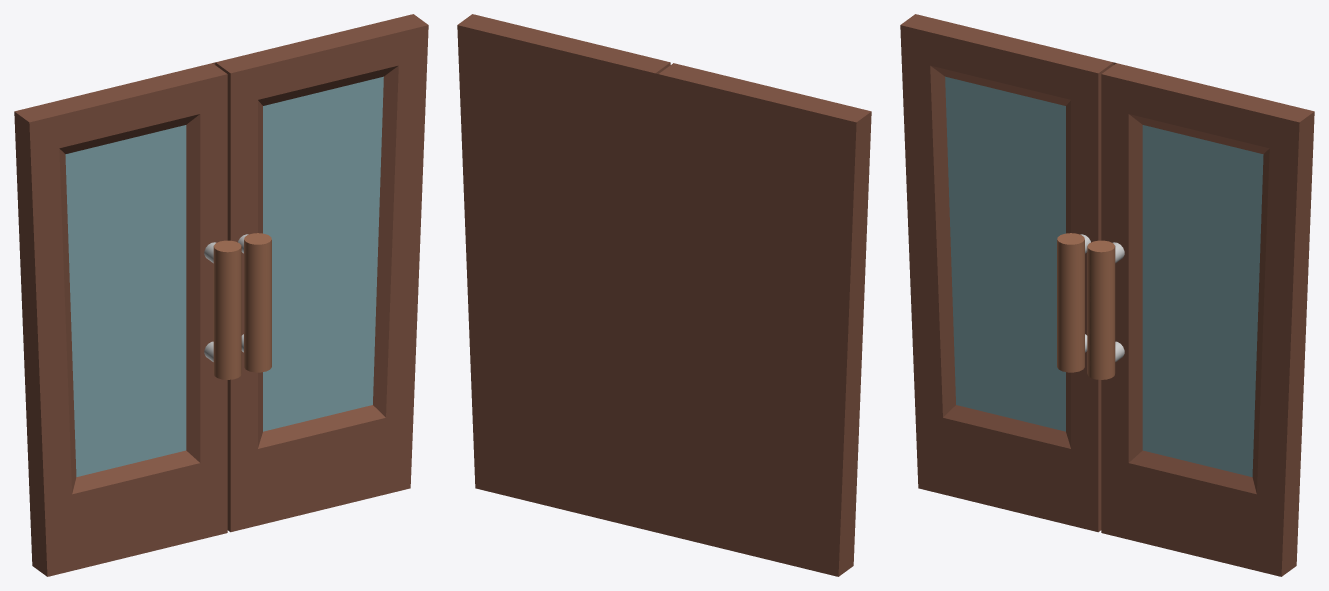
File:  Rectal (door).fbx
The picture shows the model from 3 angles, left to right: view 1: azimuth 30°, elevation 25°; view 2: azimuth 150°, elevation 25°; view 3: azimuth 330°, elevation 25°; orthographic projection.
Parts seen in each view (by area): view 1: Rectal (door); view 2: Rectal (door); view 3: Rectal (door).
Boxes of the visible parts, x1,y1,x2,y2 form: Rectal (door): (14, 14, 428, 576); Rectal (door): (457, 14, 871, 576); Rectal (door): (900, 14, 1314, 576).
Bounding box in the file's own units: 396 × 435 × 61.54.
